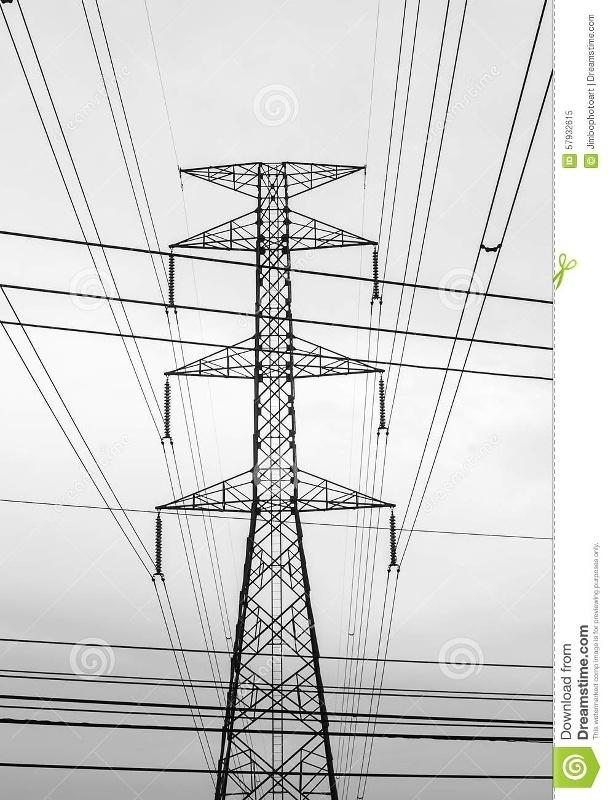power_tower: (133, 144, 408, 795)
